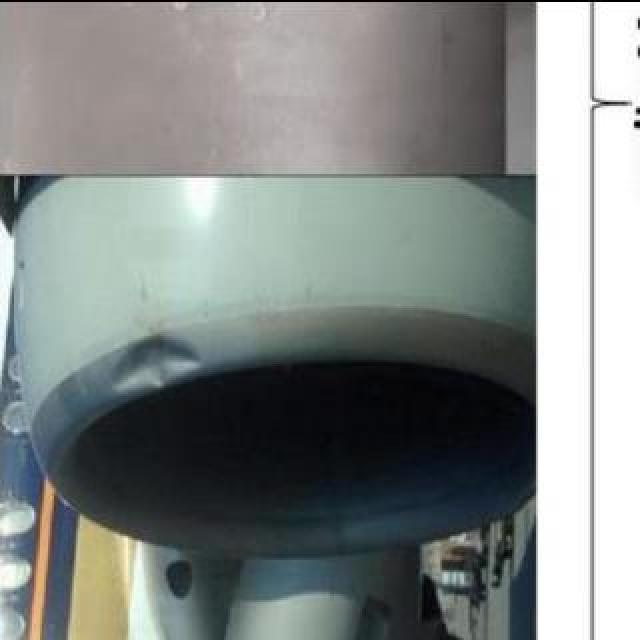dent: (110, 329, 202, 395)
